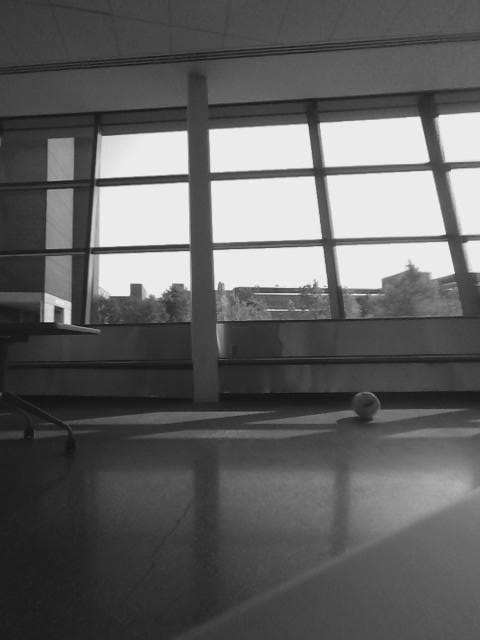ball: (352, 390, 383, 422)
